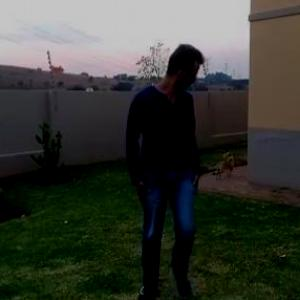follow: (123, 39, 211, 299)
